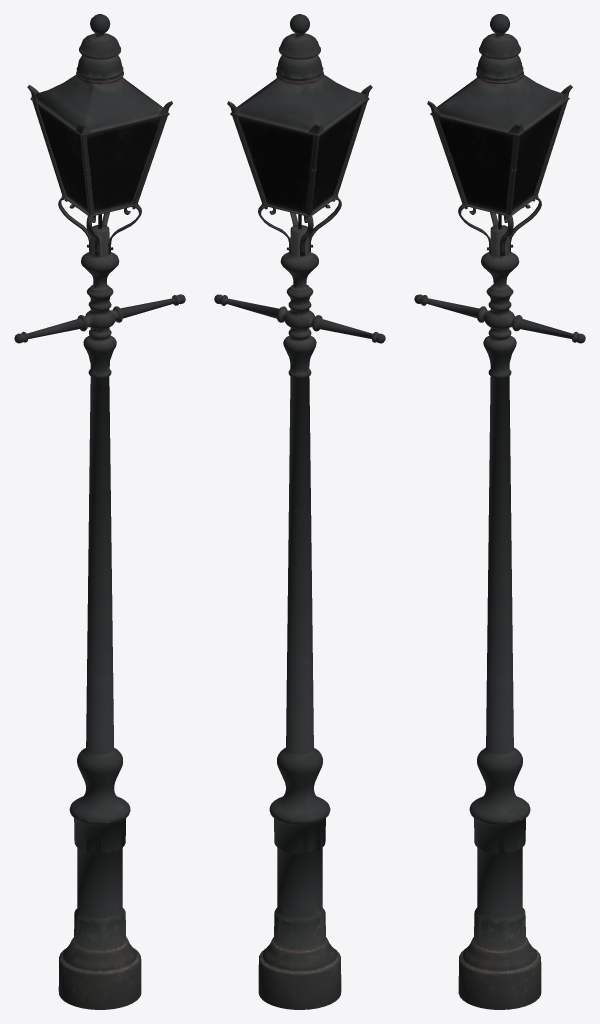
File: street_lamp.glb
3 views of the same model, side by side, from view 1: azimuth 30°, elevation 25°; view 2: azimuth 150°, elevation 25°; view 3: azimuth 330°, elevation 25° (orthographic).
Parts seen in each view (by area): view 1: street_lamp_01; view 2: street_lamp_01; view 3: street_lamp_01.
Part boxes in pixels (x1,y1,x2,y2): street_lamp_01: (14, 14, 185, 1009); street_lamp_01: (214, 14, 385, 1009); street_lamp_01: (414, 14, 585, 1009).
Size of the model in its own units: 0.7034 by 3.87 by 0.3858.
Materials: 2 (2 with a texture image).
